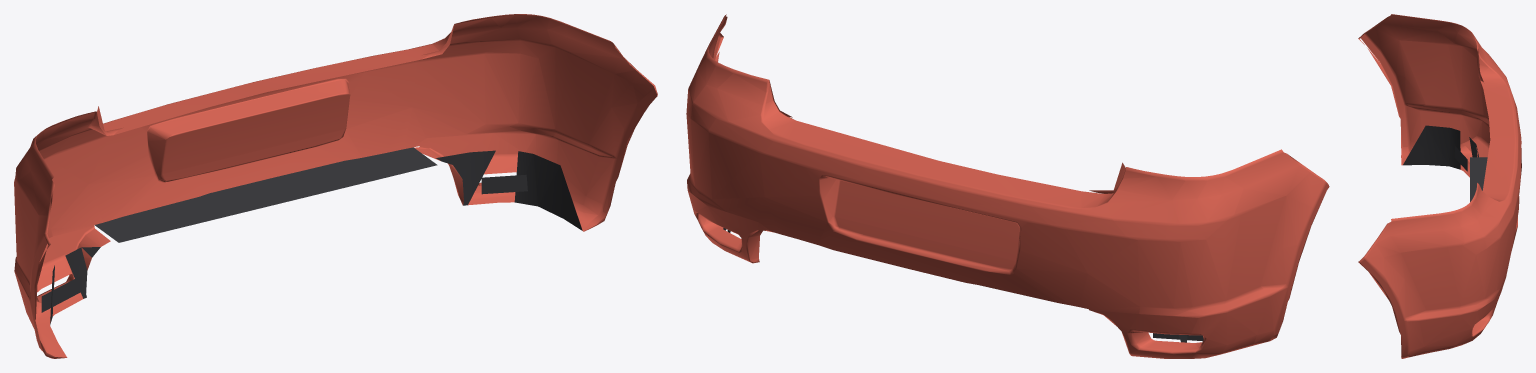
File: wendtStrom_rearBumper_sectionedEuro.glb
3 renders of one model, left to right at view 1: azimuth 30°, elevation 25°; view 2: azimuth 150°, elevation 25°; view 3: azimuth 270°, elevation 25°, orthographic. The views are drawn at different scales.
Visible parts, largest first — view 1: rearBumper_sectionedEuro; view 2: rearBumper_sectionedEuro; view 3: rearBumper_sectionedEuro.
Boxes of the visible parts, x1,y1,x2,y2 form: rearBumper_sectionedEuro: [14, 14, 657, 358]; rearBumper_sectionedEuro: [686, 14, 1329, 358]; rearBumper_sectionedEuro: [1358, 14, 1521, 358].
Size of the model in its own units: 1.7 by 0.5188 by 0.523.
